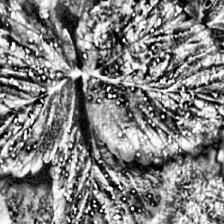Leaf Spot: (74, 0, 224, 167), (0, 0, 78, 176), (48, 119, 166, 224)
